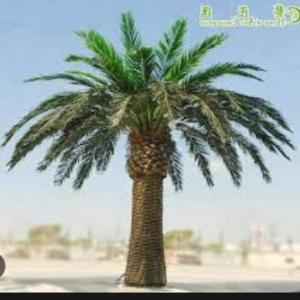palm tree: (0, 9, 296, 288)
